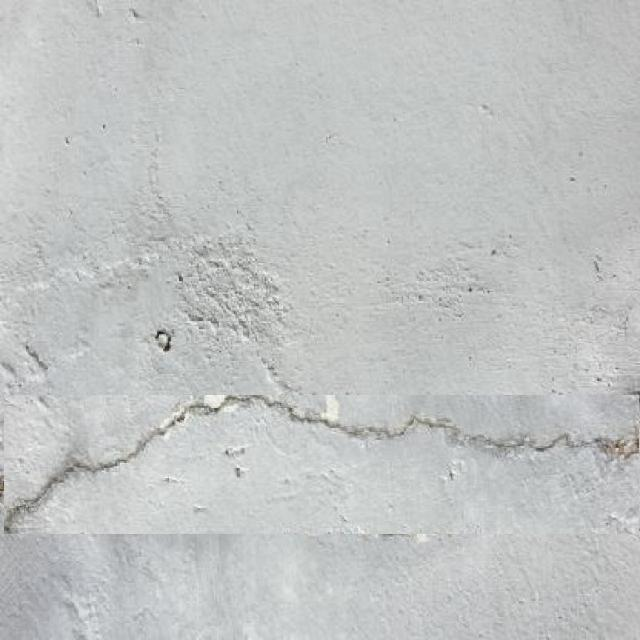crack: (0, 387, 639, 533)
